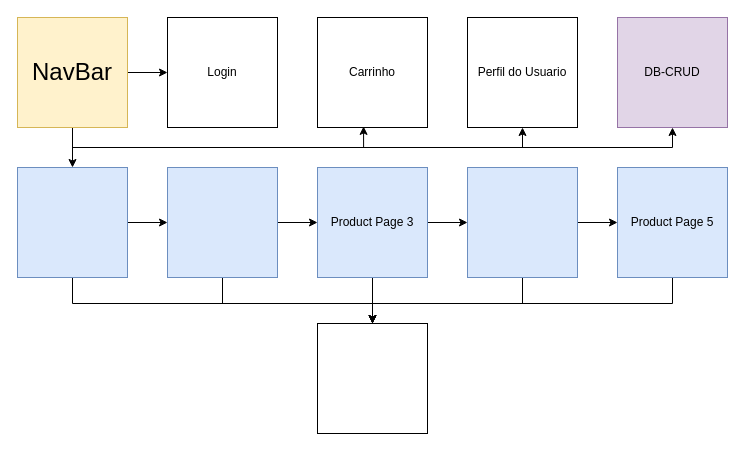
Some shapes in this 745 by 451 pixel diagram are drawn without their labels. Each missing label, with the box of its shape:
Escrever Avaliacao: (316, 322, 428, 434)
Home / Product Page 1: (16, 166, 128, 278)
Product Page 2: (166, 166, 278, 278)
Product Page 4: (466, 166, 578, 278)
